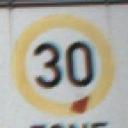speed_limit_30: (8, 12, 118, 118)
